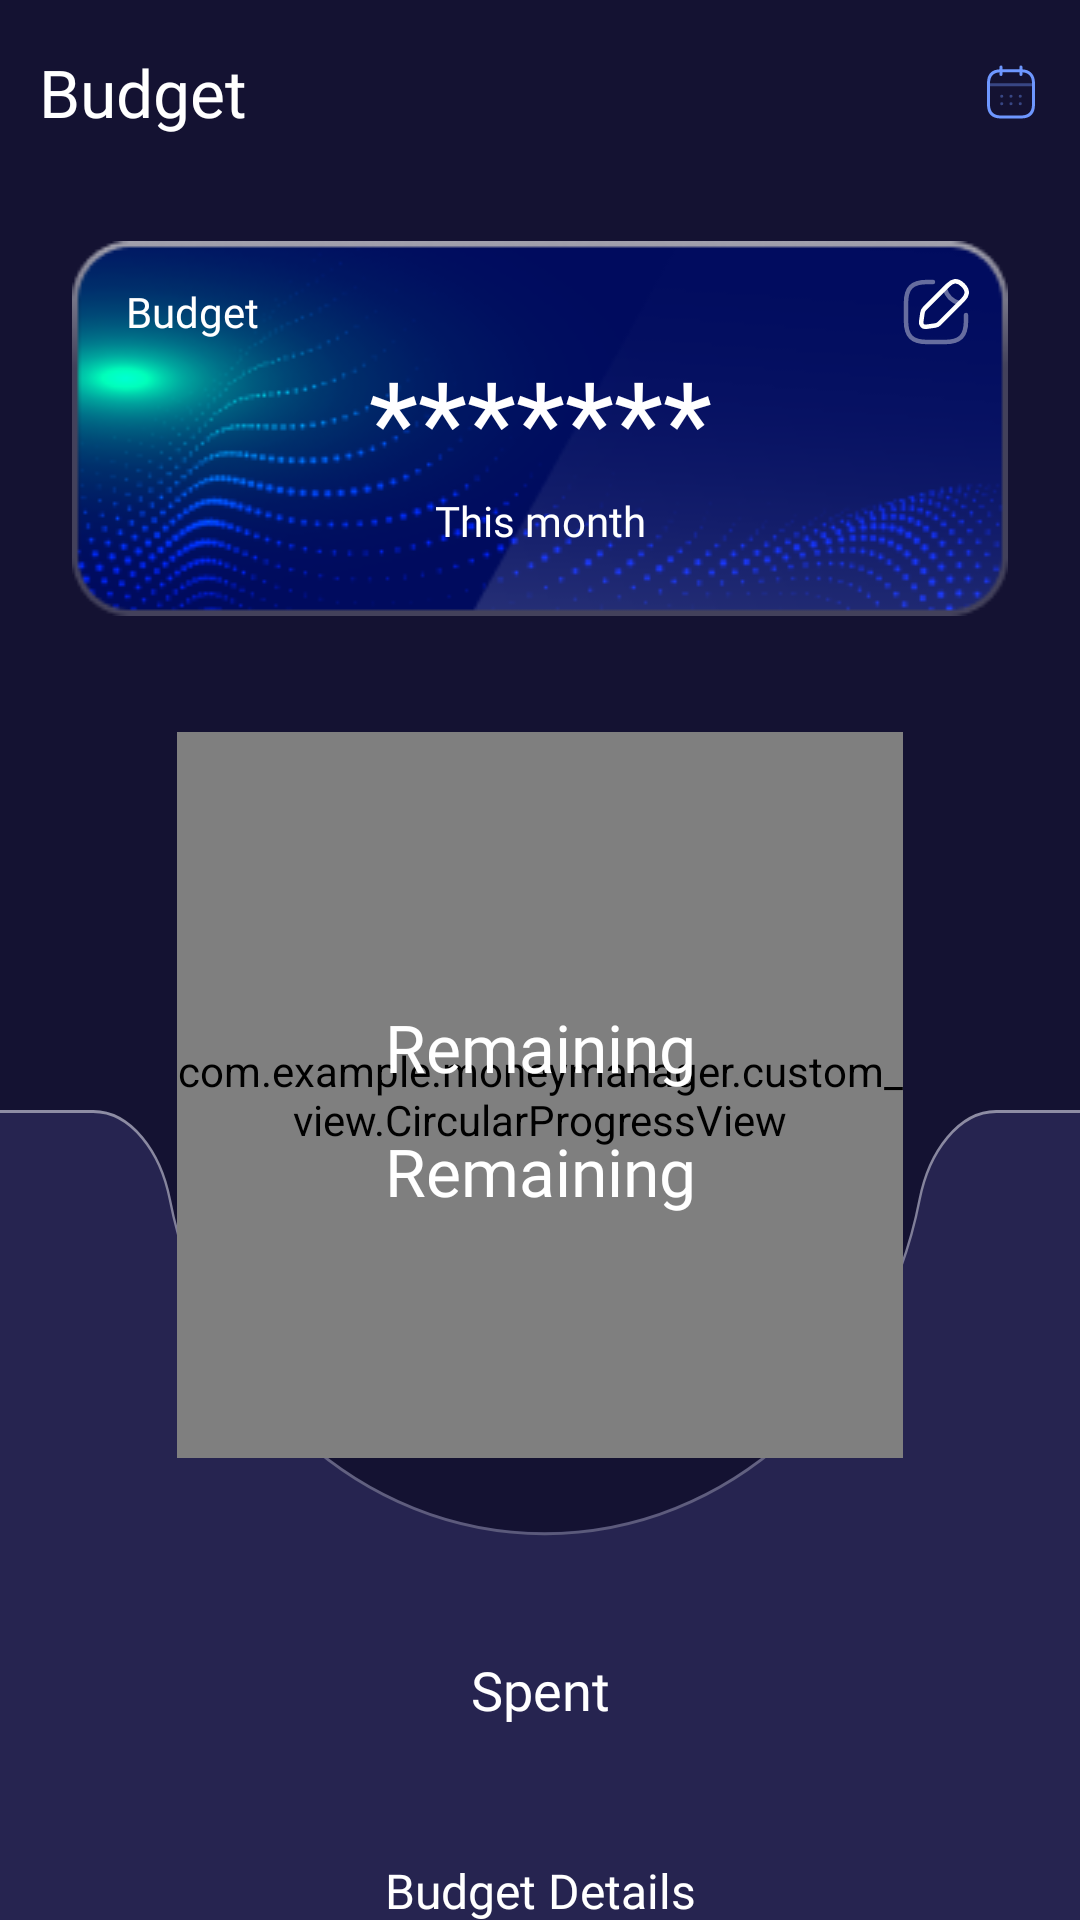

Icon click points for this 1080x1920 phone screenshot, format point (x, y):
calendar: point (1011, 92)
edit: point (936, 312)
